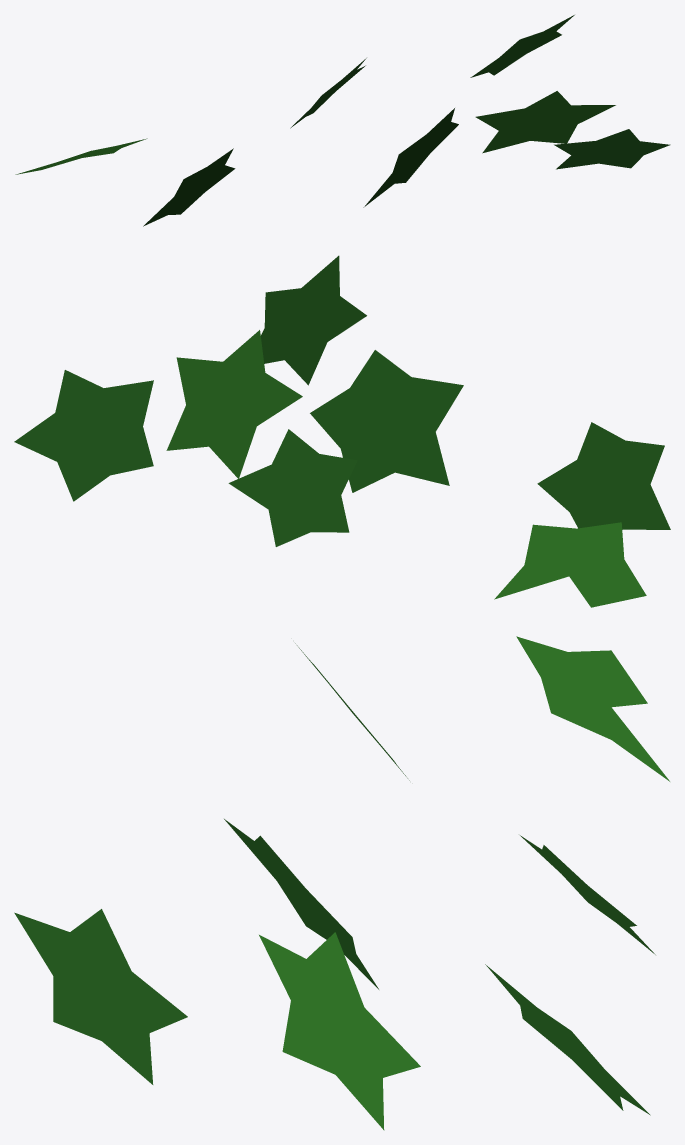
The picture shows the model from 3 angles, top to bottom: view 1: azimuth 30°, elevation 25°; view 2: azimuth 150°, elevation 25°; view 3: azimuth 270°, elevation 25°; orthographic projection. The views are drawn at different scales.
Parts seen in each view (by area): view 1: r5c0_l11; view 2: r5c0_l11; view 3: r5c0_l11.
Boxes of the visible parts, bbox=[...] form: r5c0_l11: bbox=[15, 15, 670, 226]; r5c0_l11: bbox=[14, 255, 670, 607]; r5c0_l11: bbox=[14, 636, 669, 1130].
Size of the model in its own units: 1.62 by 0.2919 by 0.9626.
